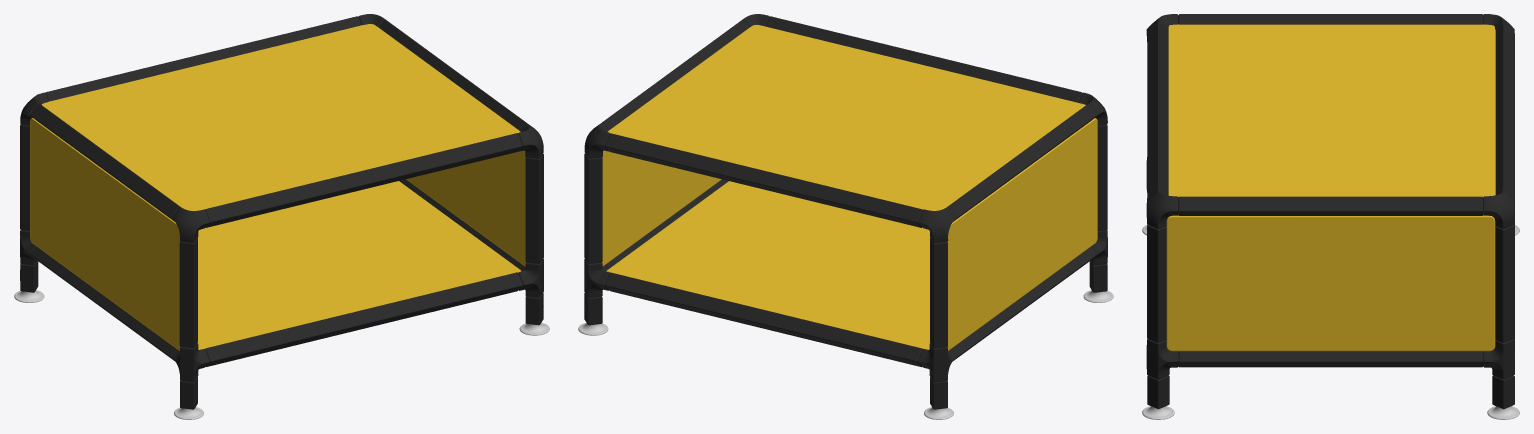
3 views of the same model, side by side, from view 1: azimuth 30°, elevation 25°; view 2: azimuth 150°, elevation 25°; view 3: azimuth 270°, elevation 25° (orthographic). The views are drawn at different scales.
Parts seen in each view (by area): view 1: 479x374x154; view 2: 479x374x154; view 3: 479x374x154.
Part boxes in pixels (x1,y1,x2,y2): 479x374x154: (14, 14, 549, 419); 479x374x154: (578, 14, 1113, 419); 479x374x154: (1142, 14, 1519, 419).
Size of the model in its own units: 0.5689 by 0.2933 by 0.4633.
